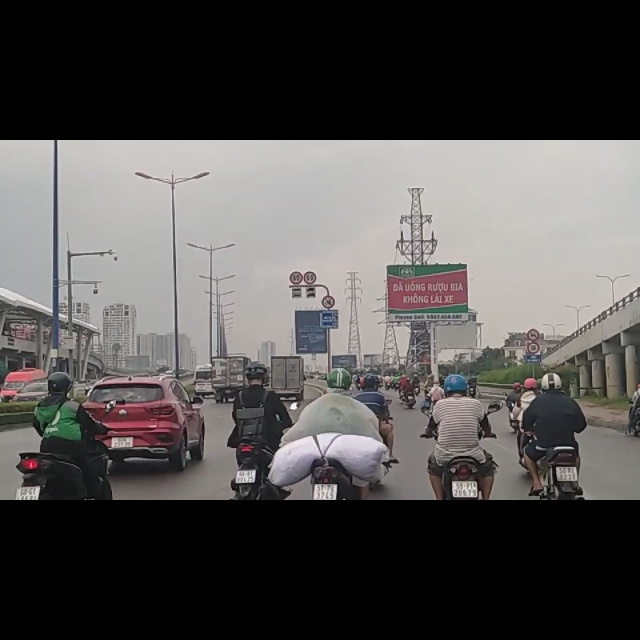bien_cam: (319, 271, 336, 300)
